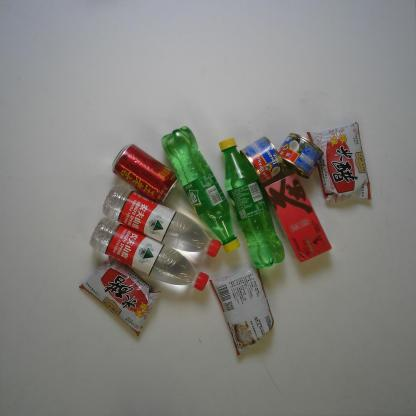Canned Food: (241, 135, 285, 186), (276, 132, 325, 177)
Drink: (161, 125, 241, 254), (88, 217, 209, 296), (99, 183, 222, 260), (218, 136, 284, 269), (109, 141, 180, 204)
Instant Drink: (265, 172, 333, 263)
Seasoner: (76, 256, 162, 337), (208, 263, 276, 358), (308, 121, 373, 204)
